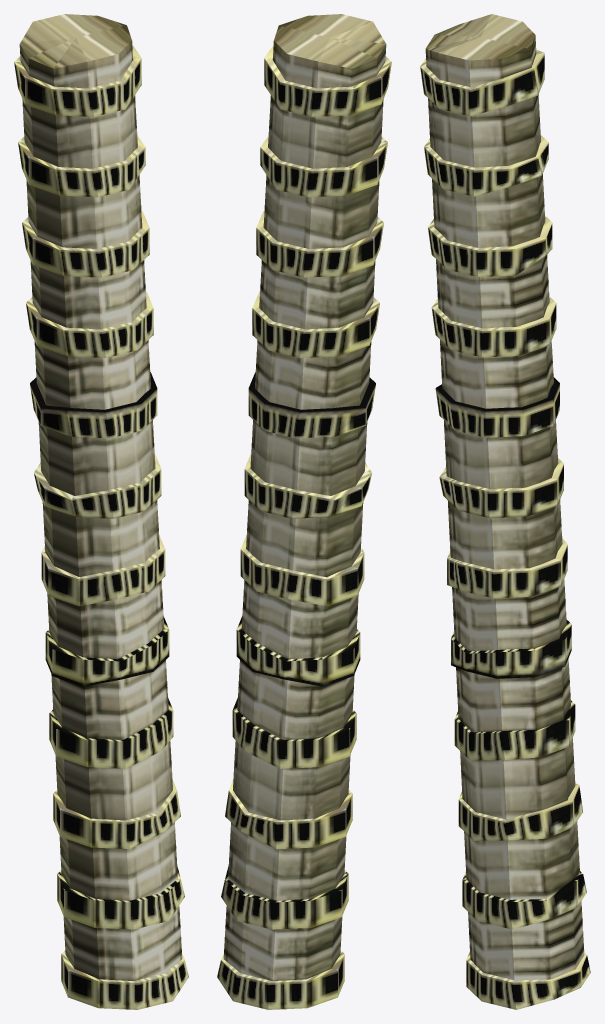
File: Pisa.glb
3 views of the same model, side by side, from view 1: azimuth 30°, elevation 25°; view 2: azimuth 150°, elevation 25°; view 3: azimuth 330°, elevation 25° (orthographic). The views are drawn at different scales.
Visible parts, largest first — view 1: Pisa; view 2: Pisa; view 3: Pisa.
Boxes of the visible parts, x1,y1,x2,y2 form: Pisa: (14,14,188,1009); Pisa: (217,14,391,1009); Pisa: (420,14,590,1009).
Bounding box in the file's own units: 252 × 1505 × 172.
Materials: 1 (1 with a texture image).
